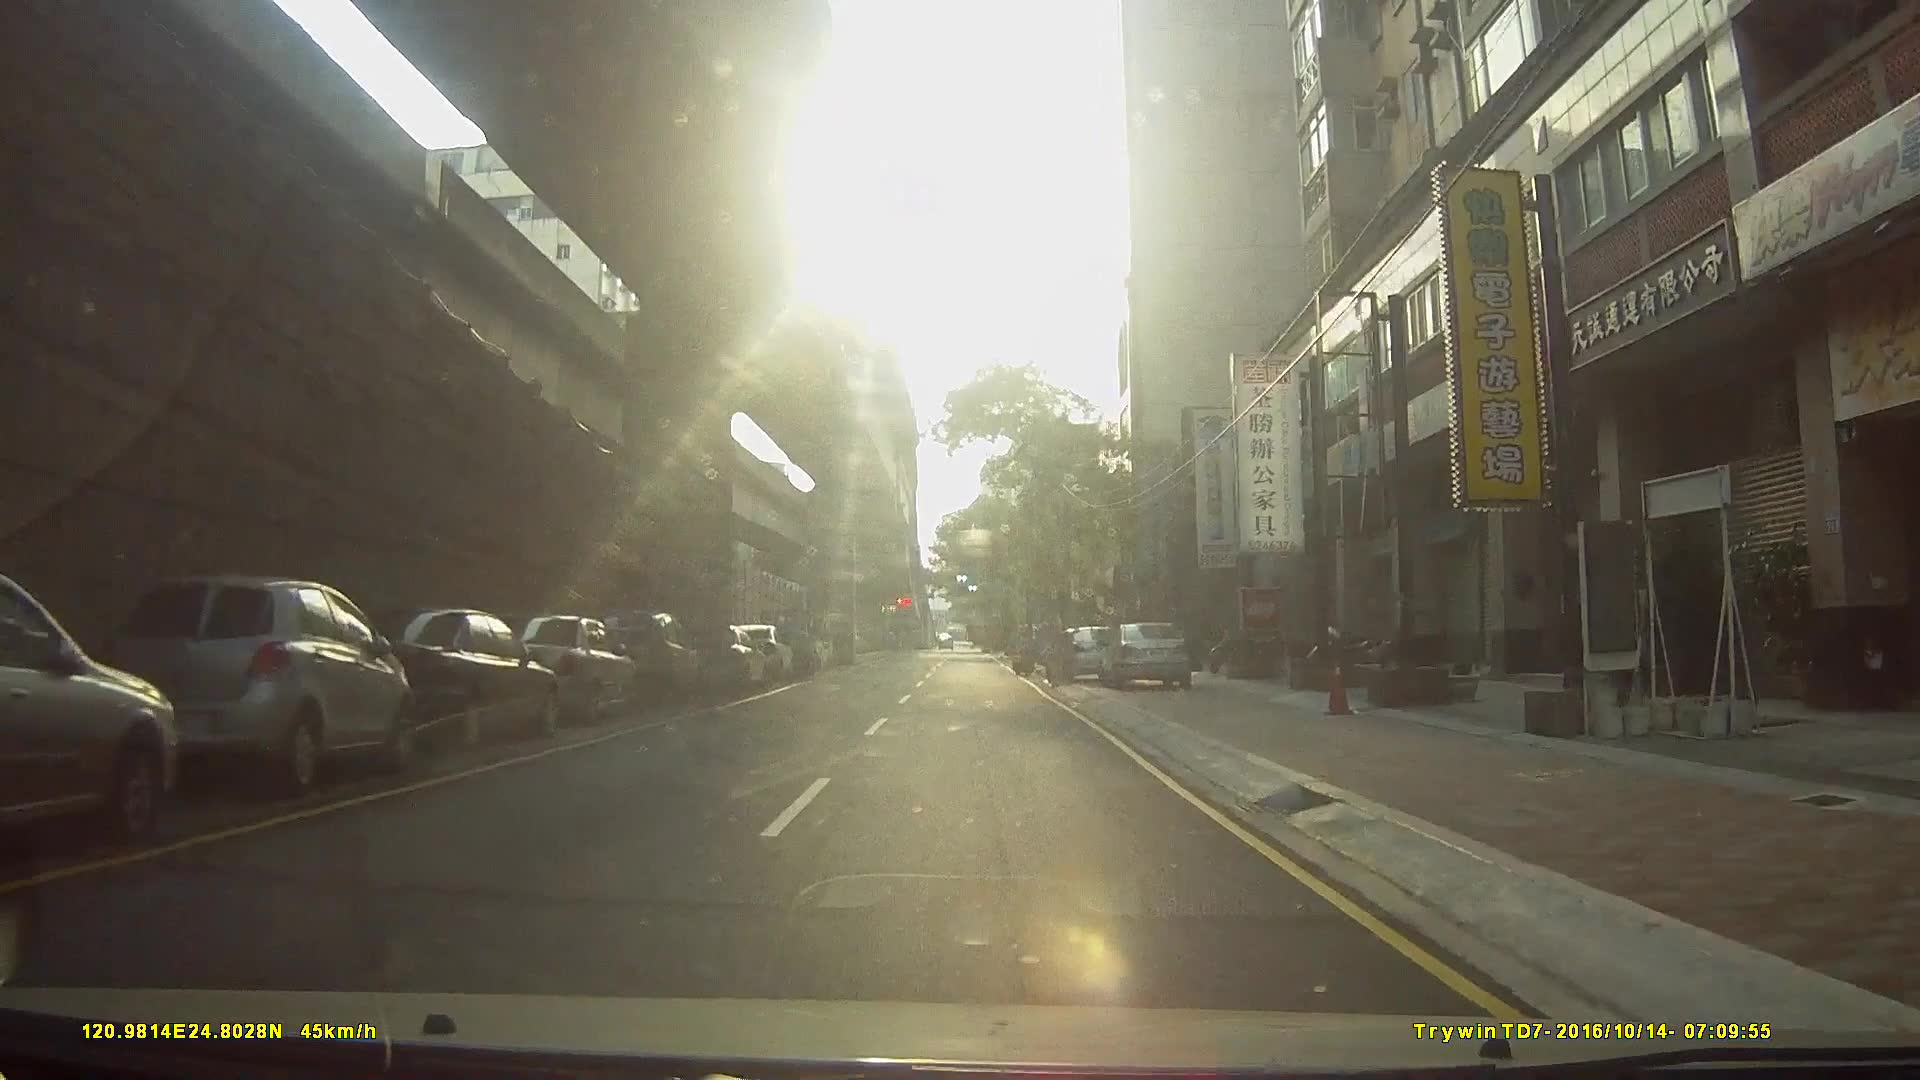vehicle: (74, 571, 398, 808), (1, 559, 196, 866), (342, 608, 549, 760), (487, 615, 634, 729), (585, 608, 702, 713), (1095, 621, 1195, 694), (1043, 626, 1124, 688), (757, 608, 814, 680), (971, 618, 1040, 655)
